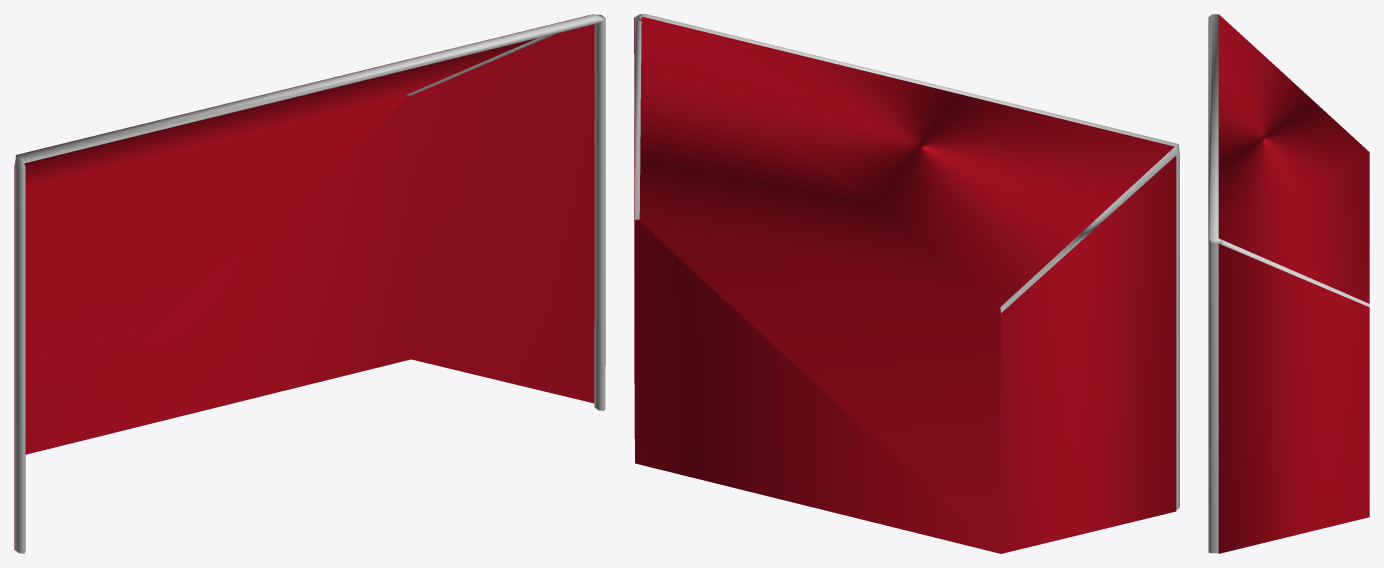
Rendered from Football cage .fbx.
The picture shows the model from 3 angles, left to right: view 1: azimuth 30°, elevation 25°; view 2: azimuth 150°, elevation 25°; view 3: azimuth 270°, elevation 25°; orthographic projection. The views are drawn at different scales.
Visible parts, largest first — view 1: Cylinder.001; view 2: Cylinder.001; view 3: Cylinder.001.
Part boxes in pixels (x1=…): Cylinder.001: x1=14, y1=14, x2=605, y2=553; Cylinder.001: x1=634, y1=14, x2=1179, y2=553; Cylinder.001: x1=1208, y1=14, x2=1369, y2=553.
Bounding box in the file's own units: 811 × 521 × 243.
